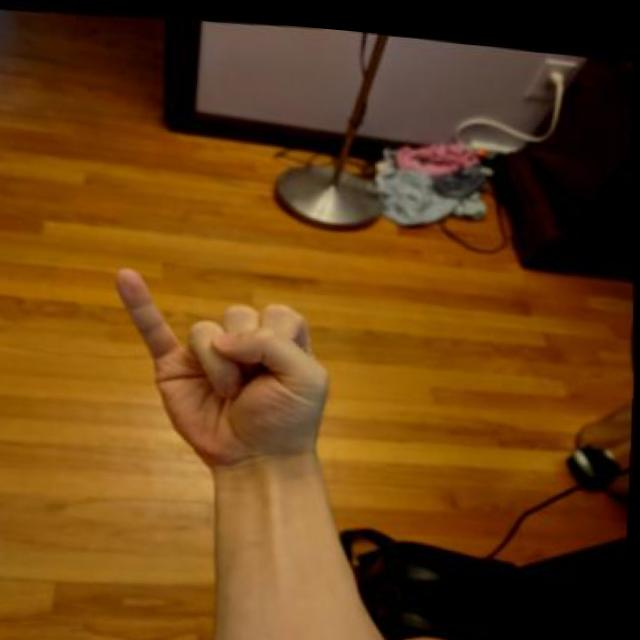I: (103, 247, 348, 484)
